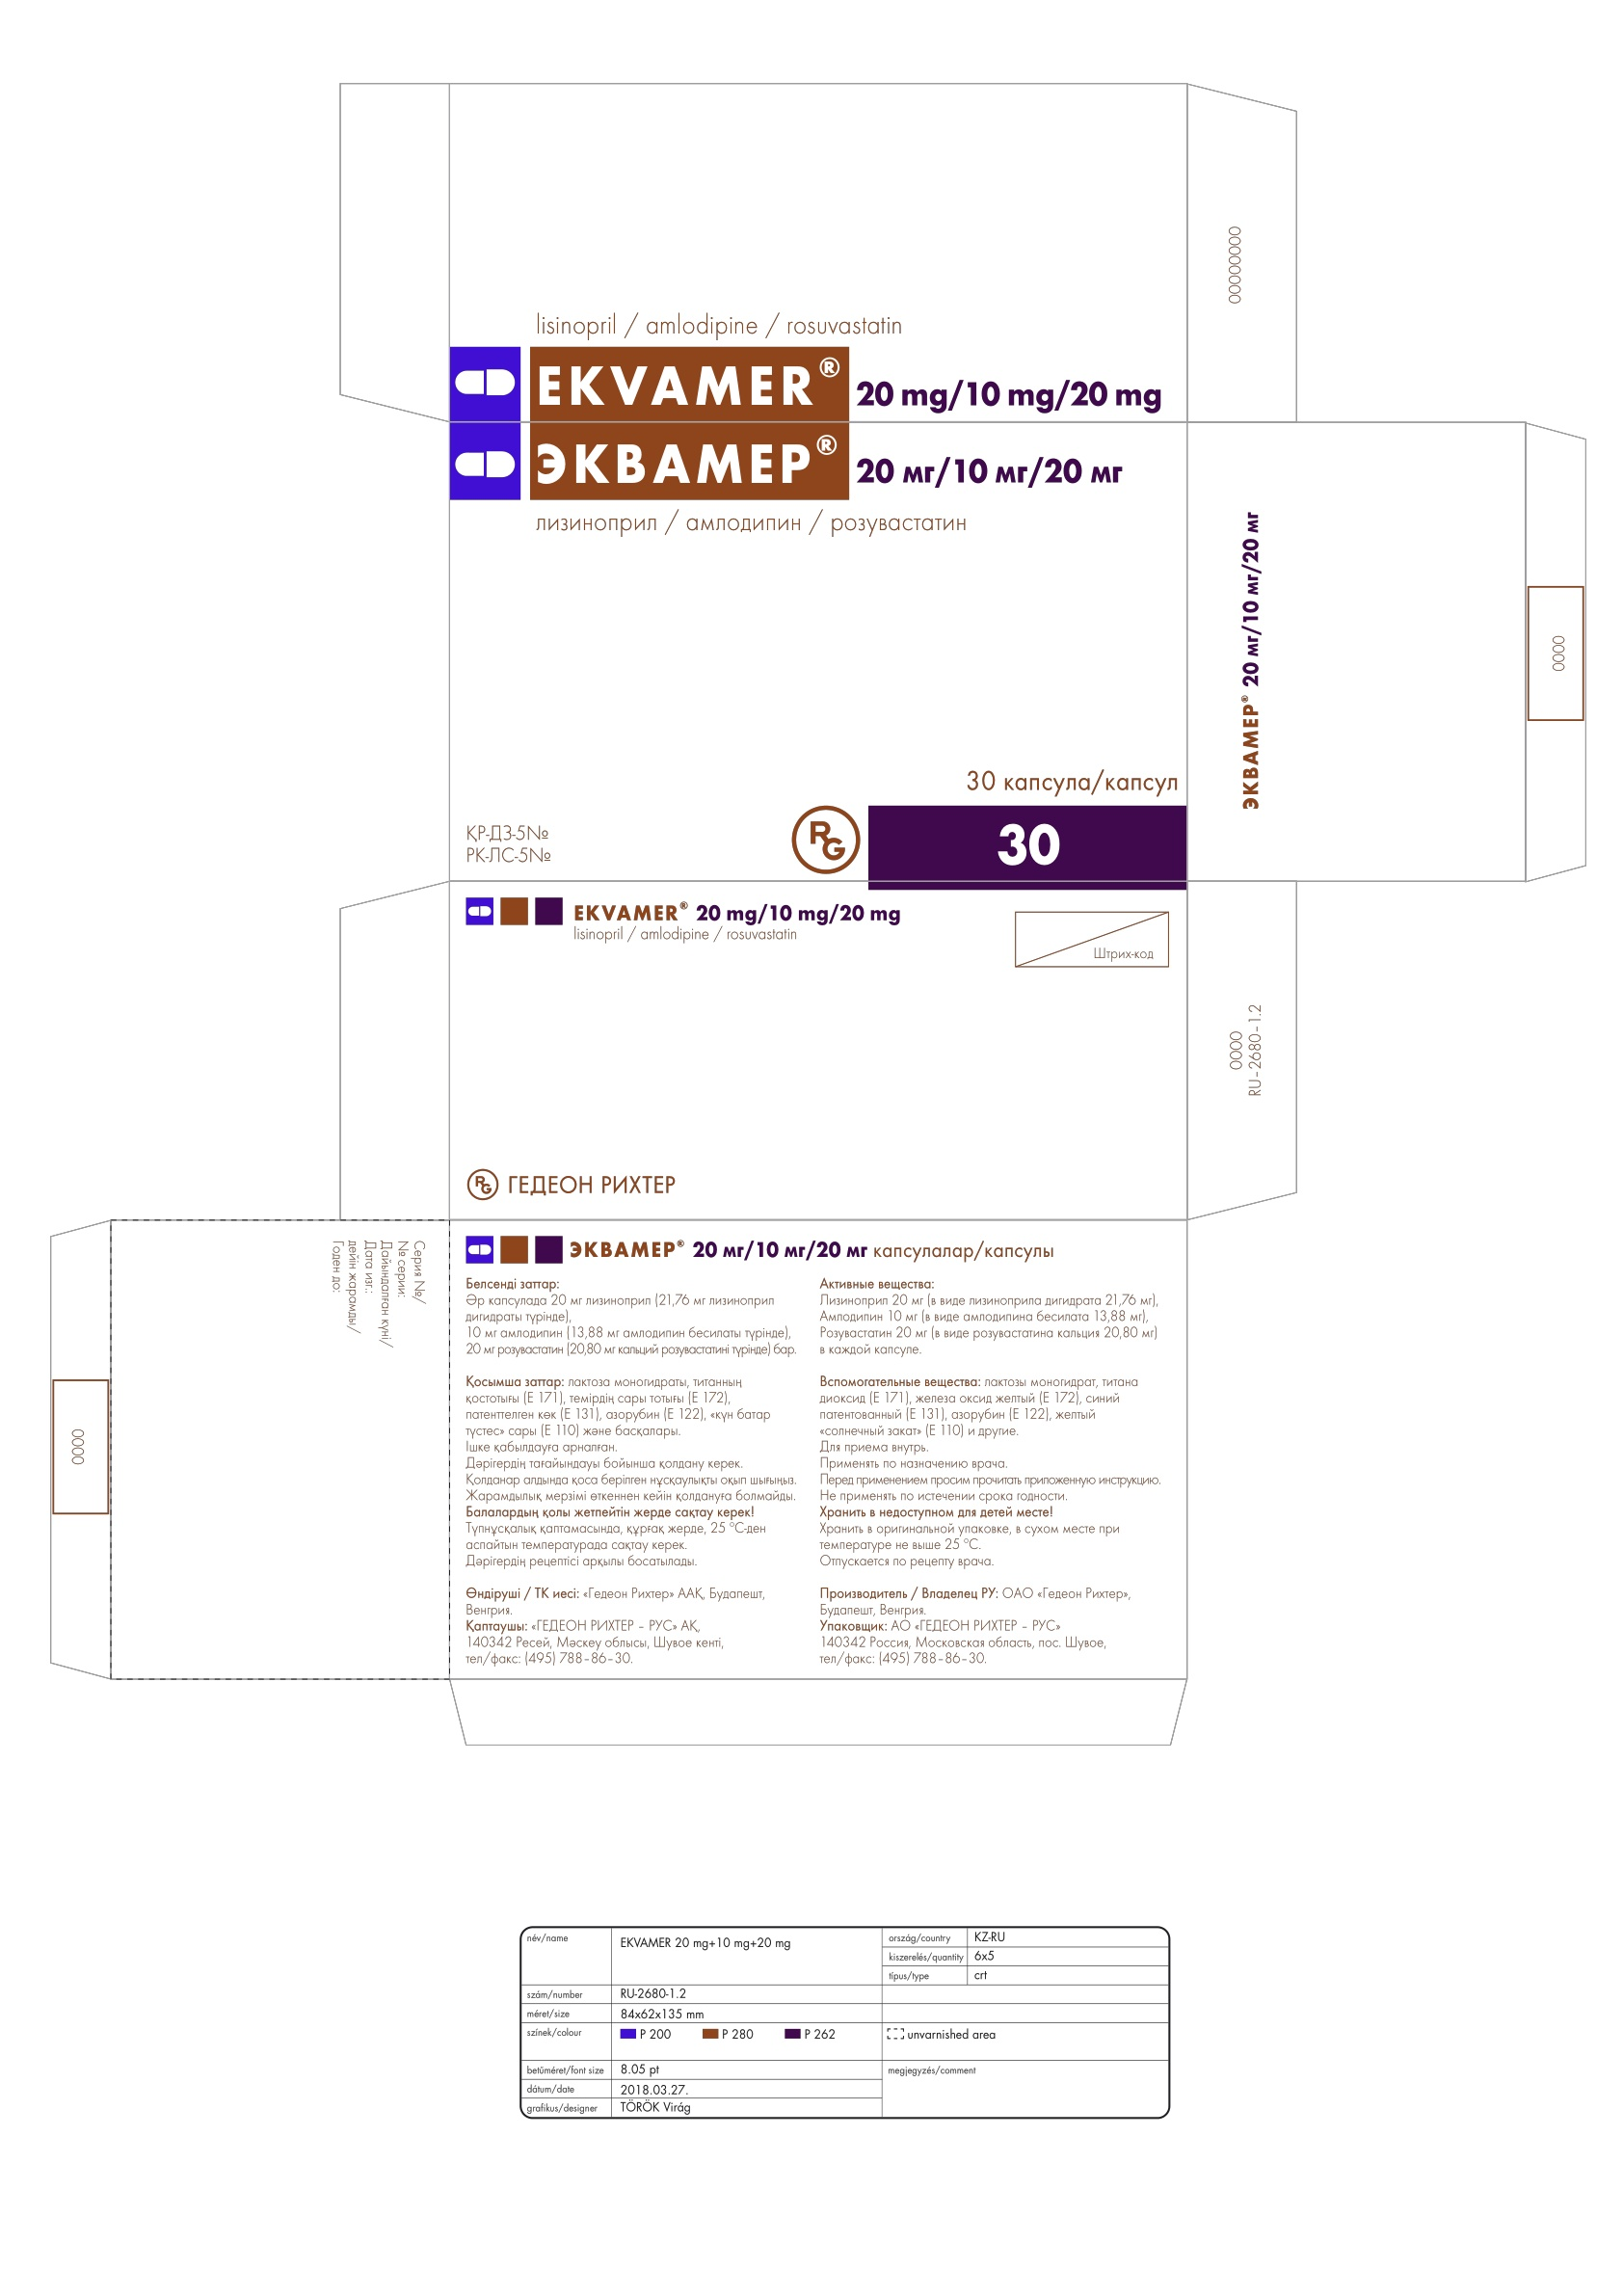merged_cells: (518, 1925, 1172, 2120)
